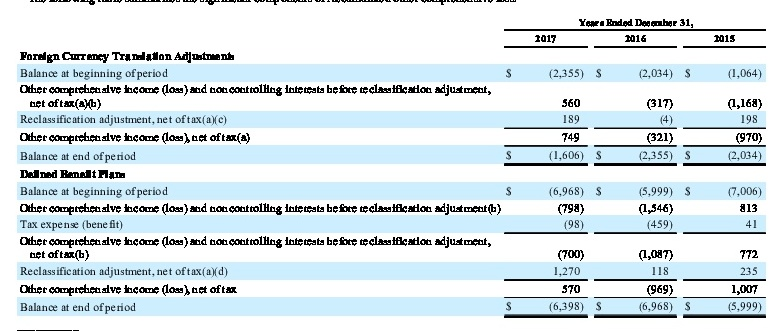table: (0, 0, 783, 331)
